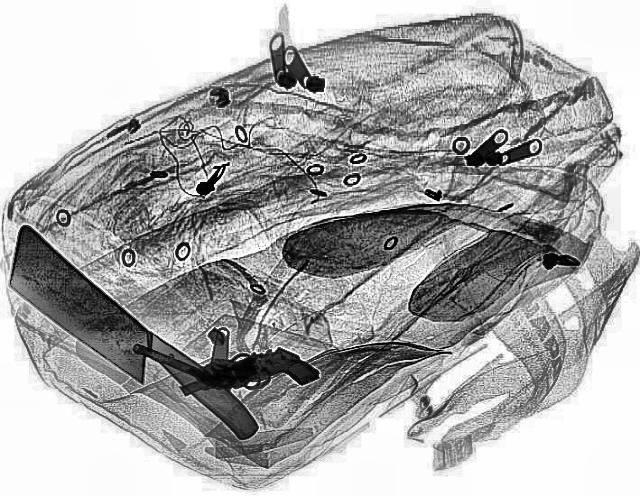Gun: (170, 336, 326, 420), (127, 315, 266, 397)
Knife: (0, 242, 268, 456)
